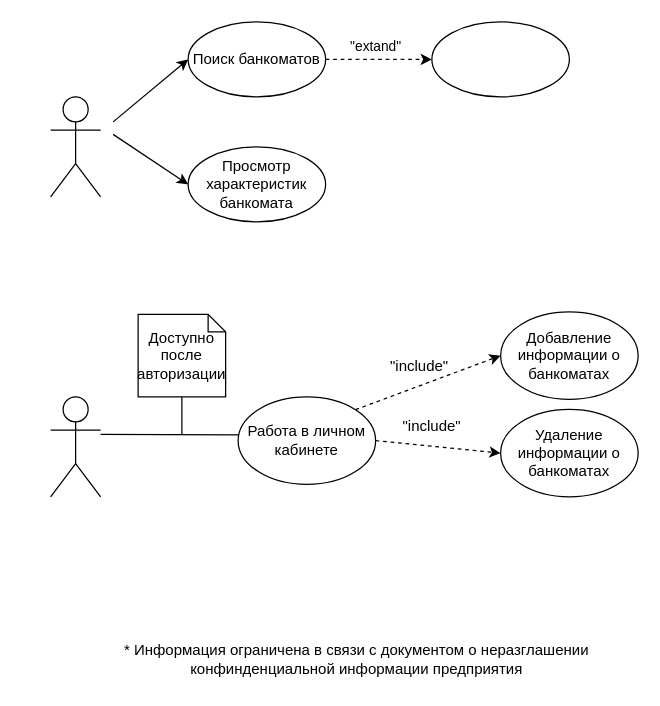
Image size: 660x706. Some labels were removed from this diagram. Here are the shapes that lost their labels. From the top down, the centre of each, then its label:
At point (500, 59): "Фильтрация банкоматов".
At point (75, 146): "Пользователь".
At point (75, 446): "Администратор".
